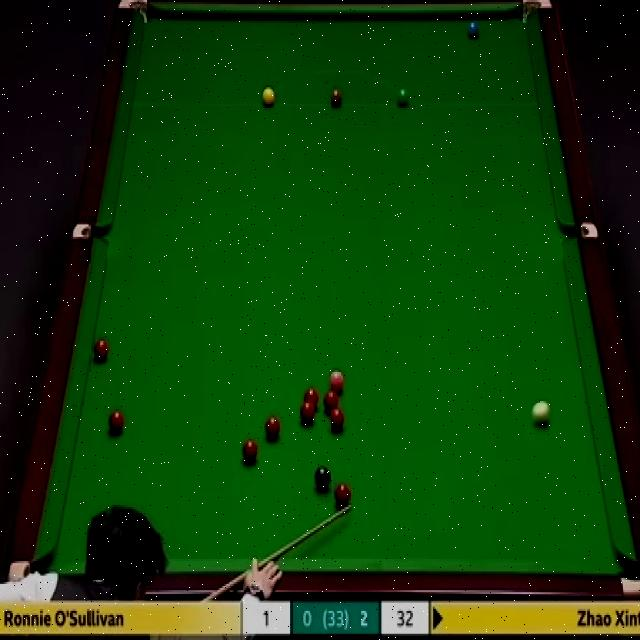black-ball: (313, 464, 329, 495)
blue-ball: (466, 18, 479, 40)
brown-ball: (330, 87, 344, 108)
green-ball: (396, 88, 410, 110)
pink-ball: (328, 369, 344, 393)
red-ball: (299, 402, 317, 426), (322, 388, 340, 412), (92, 336, 109, 361), (336, 485, 353, 510), (263, 414, 280, 438), (241, 440, 259, 462), (330, 406, 344, 434), (106, 411, 124, 432), (303, 387, 320, 409)
white-ball: (531, 400, 551, 428)
yellow-ball: (261, 86, 276, 108)
